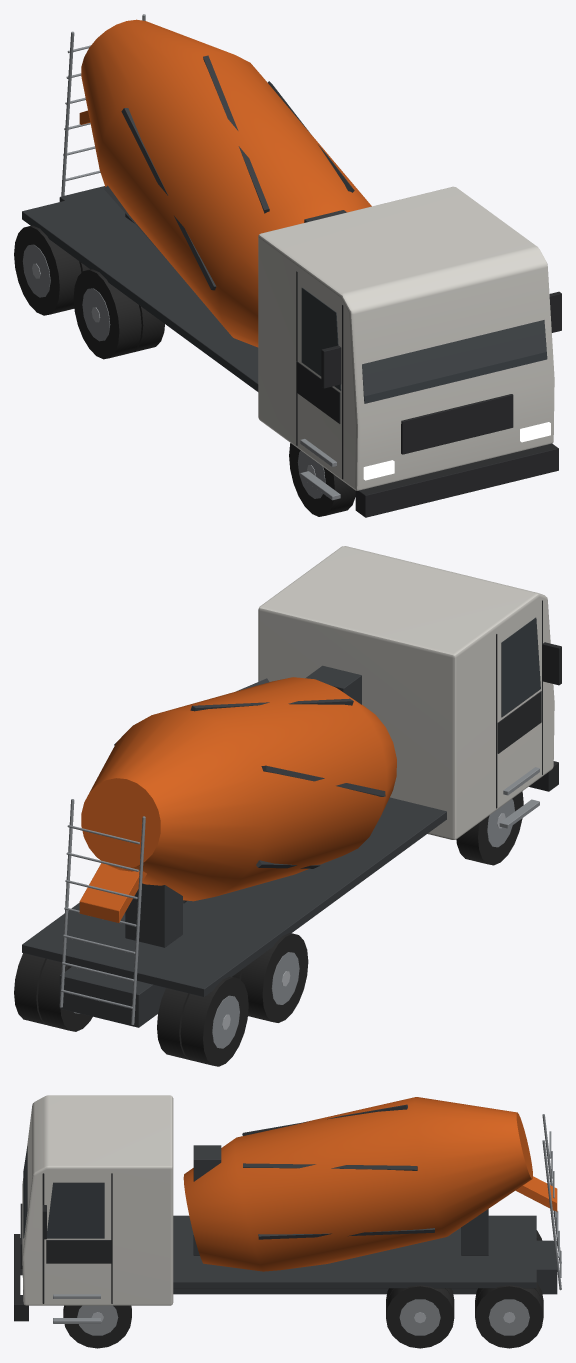
The model's file is veh_mixer_truck.glb.
The picture shows the model from 3 angles, top to bottom: view 1: azimuth 30°, elevation 25°; view 2: azimuth 150°, elevation 25°; view 3: azimuth 270°, elevation 25°; orthographic projection. The views are drawn at different scales.
Parts seen in each view (by area): view 1: Body, DrumMesh, Wheels, CabDoorLMesh; view 2: Body, DrumMesh, Wheels, CabDoorLMesh; view 3: Body, DrumMesh, Wheels, CabDoorRMesh.
Part boxes in pixels (x1,y1,x2,y2): Body: (22,14,561,517); DrumMesh: (81,19,371,347); Wheels: (14,225,355,516); CabDoorLMesh: (296,361,340,423); Body: (22,546,561,1027); DrumMesh: (81,677,396,903); Wheels: (14,791,523,1066); CabDoorLMesh: (497,691,541,753); Body: (14,1095,561,1323); DrumMesh: (183,1097,532,1271); Wheels: (63,1230,543,1348); CabDoorRMesh: (46,1240,111,1263).
Bounding box in the file's own units: 3 × 3.4 × 7.99.
